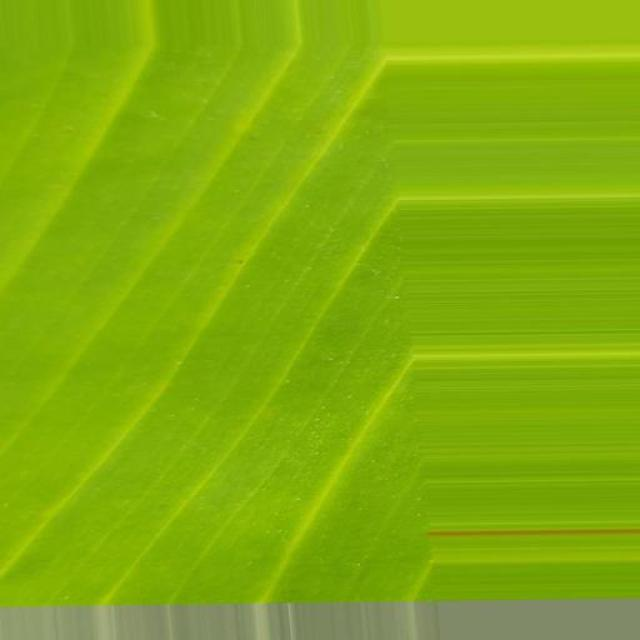Black_leaf_spot: (10, 0, 474, 608)
